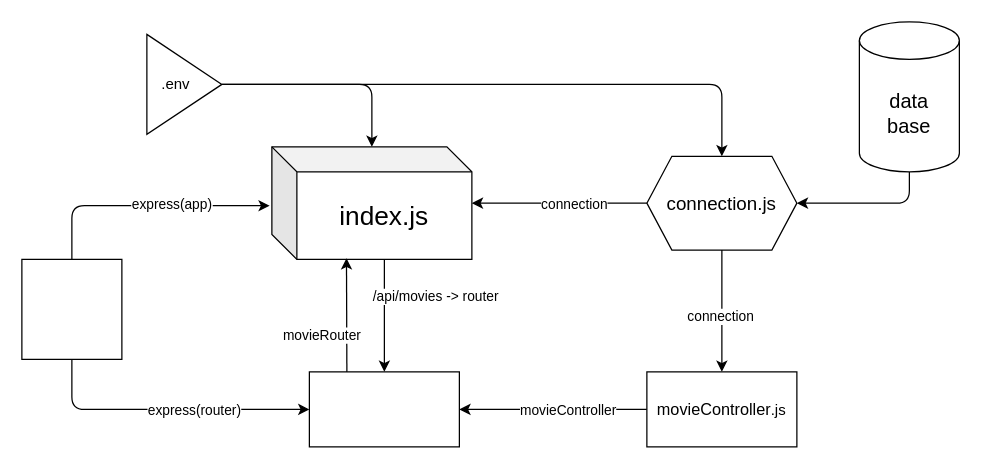
This 981x469 diagram has some shape labels left out. Here are the shapes that lost their labels. From the top down, the centre of each, then its label:
pixel 71 308: require ('express')
pixel 383 409: movies.js
